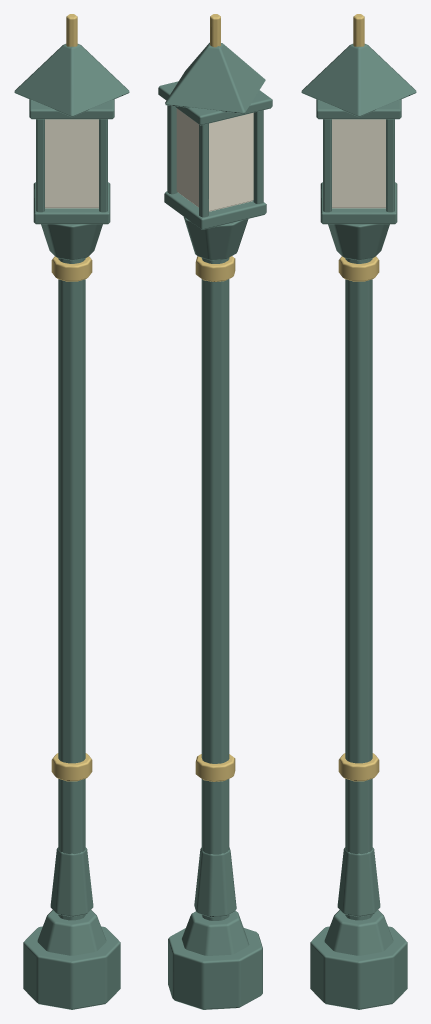
File: park_lamp.glb
3 views of the same model, side by side, from view 1: azimuth 90°, elevation 25°; view 2: azimuth 210°, elevation 25°; view 3: azimuth 270°, elevation 25° (orthographic).
Visible parts, largest first — view 1: lamp; view 2: lamp; view 3: lamp.
Part boxes in pixels (box(x1,y1,x2,y2)): lamp: box(14, 14, 129, 1009); lamp: box(158, 14, 272, 1009); lamp: box(301, 14, 416, 1009).
Bounding box in the file's own units: 0.5117 × 4.78 × 0.5117.
